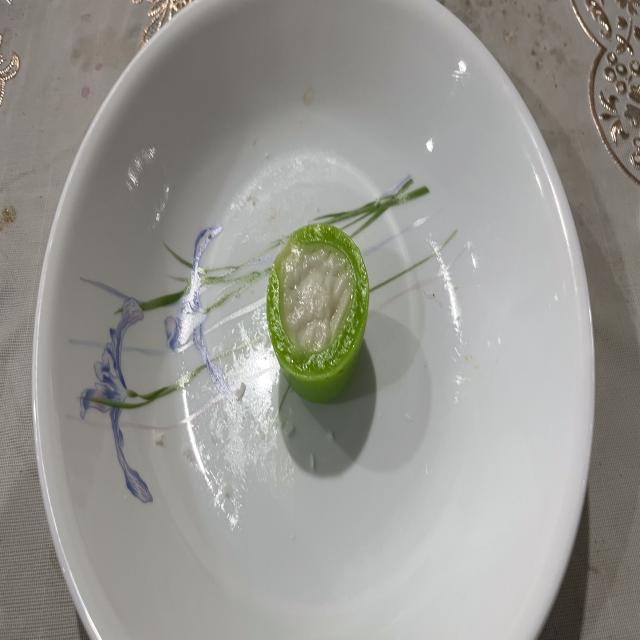nona-manis: (268, 222, 369, 402)
